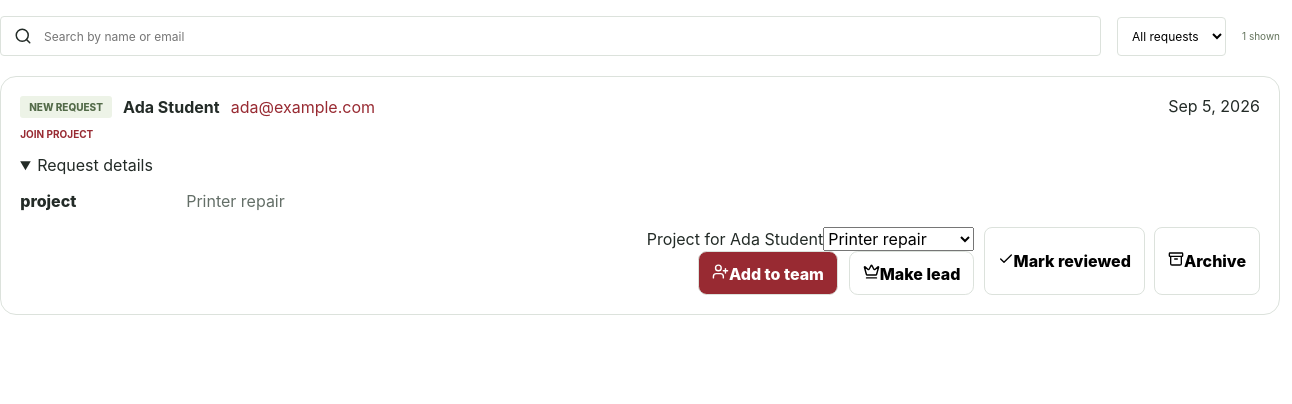
Test: asks for confirmation before making someone a project lead
Click the button "Make lead" at (912, 273), box [849, 251, 974, 295]
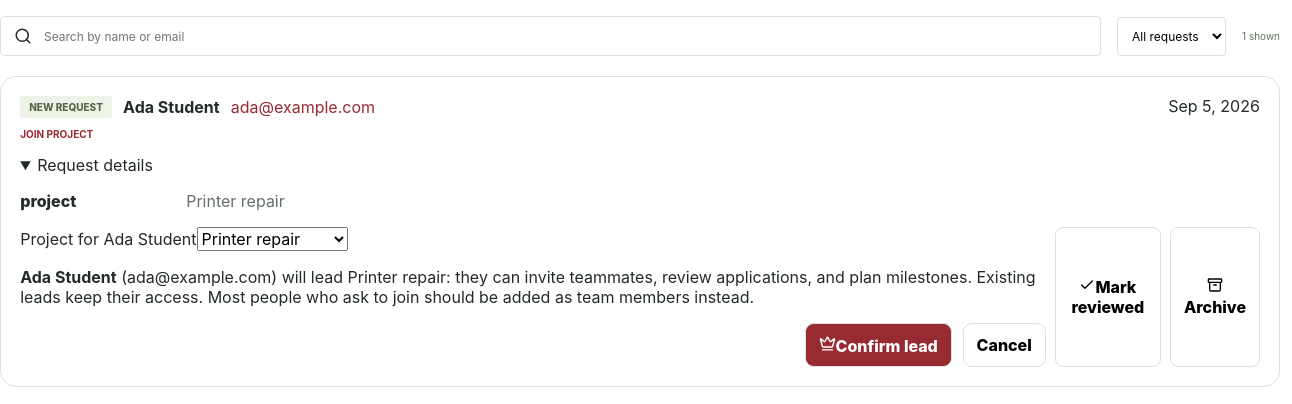
Expected: the text "Most people who ask to join should be added as team members" is shown, [20, 267, 1036, 307]
Click the button "Confirm lead" at (878, 345), box [805, 323, 952, 367]
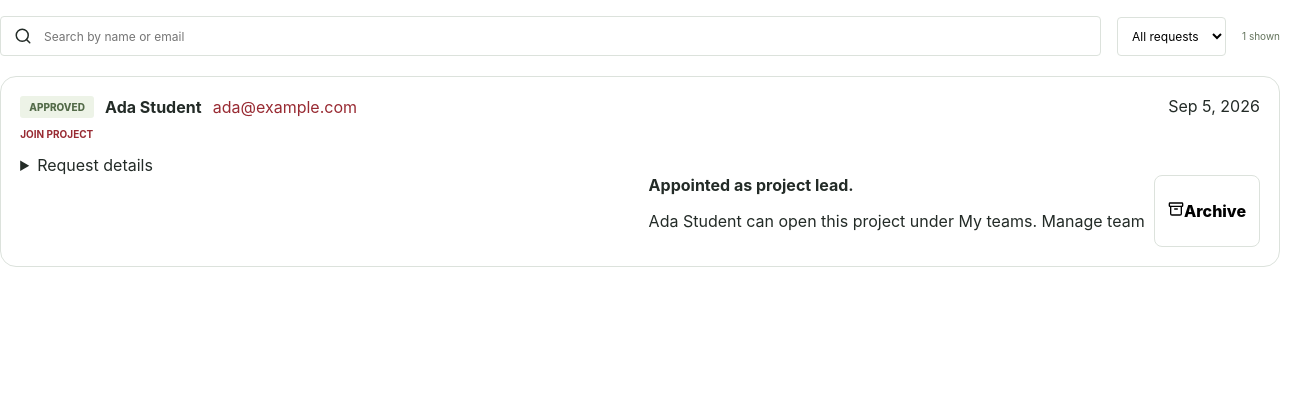
Expected: the text "Appointed as project lead." is shown, [649, 175, 854, 195]
